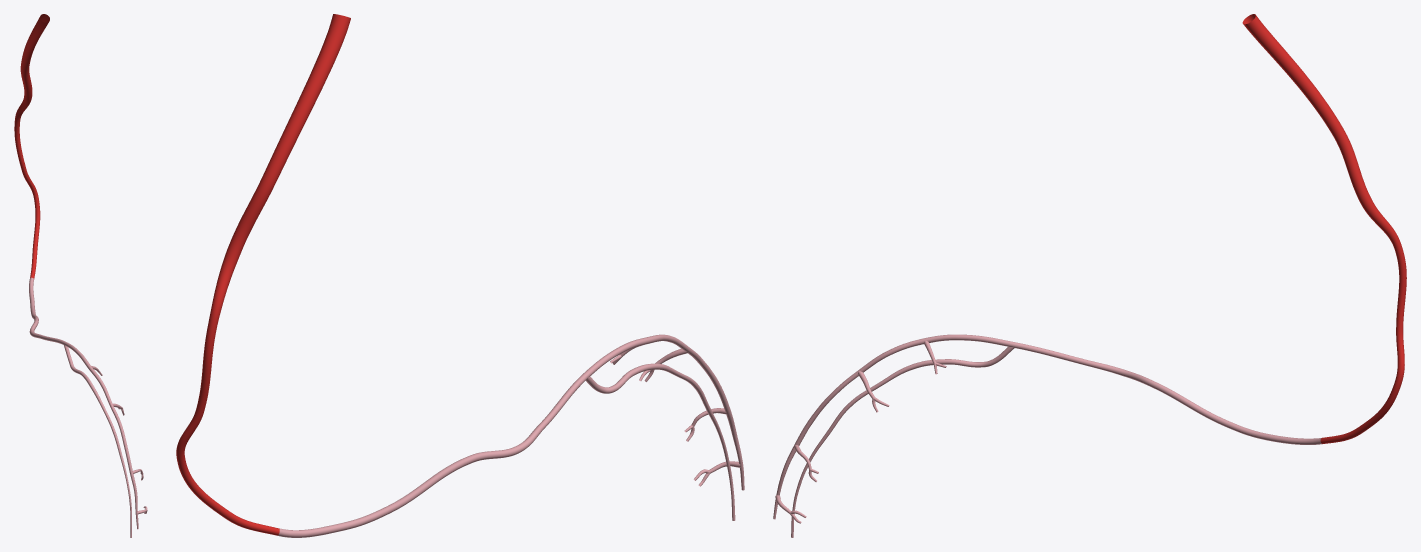
Rendered from circulatorio-internal-pudendal-artery-l.glb.
The picture shows the model from 3 angles, left to right: view 1: azimuth 30°, elevation 25°; view 2: azimuth 150°, elevation 25°; view 3: azimuth 270°, elevation 25°; orthographic projection. The views are drawn at different scales.
Visible parts, largest first — view 1: Internal pudendal artery.l, Dorsal artery of penis.l, Deep artery of penis.l; view 2: Internal pudendal artery.l, Dorsal artery of penis.l, Deep artery of penis.l; view 3: Internal pudendal artery.l, Dorsal artery of penis.l, Deep artery of penis.l.
Part boxes in pixels (box(x1,y1,x2,y2)): Internal pudendal artery.l: box(14, 14, 49, 278); Dorsal artery of penis.l: box(29, 277, 147, 529); Deep artery of penis.l: box(64, 345, 131, 537); Internal pudendal artery.l: box(176, 14, 350, 535); Dorsal artery of penis.l: box(277, 334, 744, 537); Deep artery of penis.l: box(585, 363, 735, 520); Internal pudendal artery.l: box(1242, 14, 1406, 443); Dorsal artery of penis.l: box(773, 334, 1322, 523); Deep artery of penis.l: box(791, 347, 1014, 537).
Bounding box in the file's own units: 0.0471 × 0.1526 × 0.1532.
